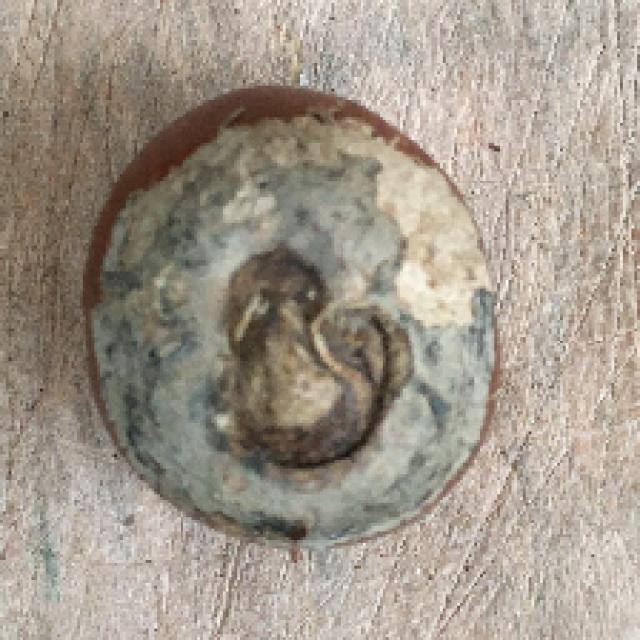damagedHazelnut: (92, 88, 514, 547)
